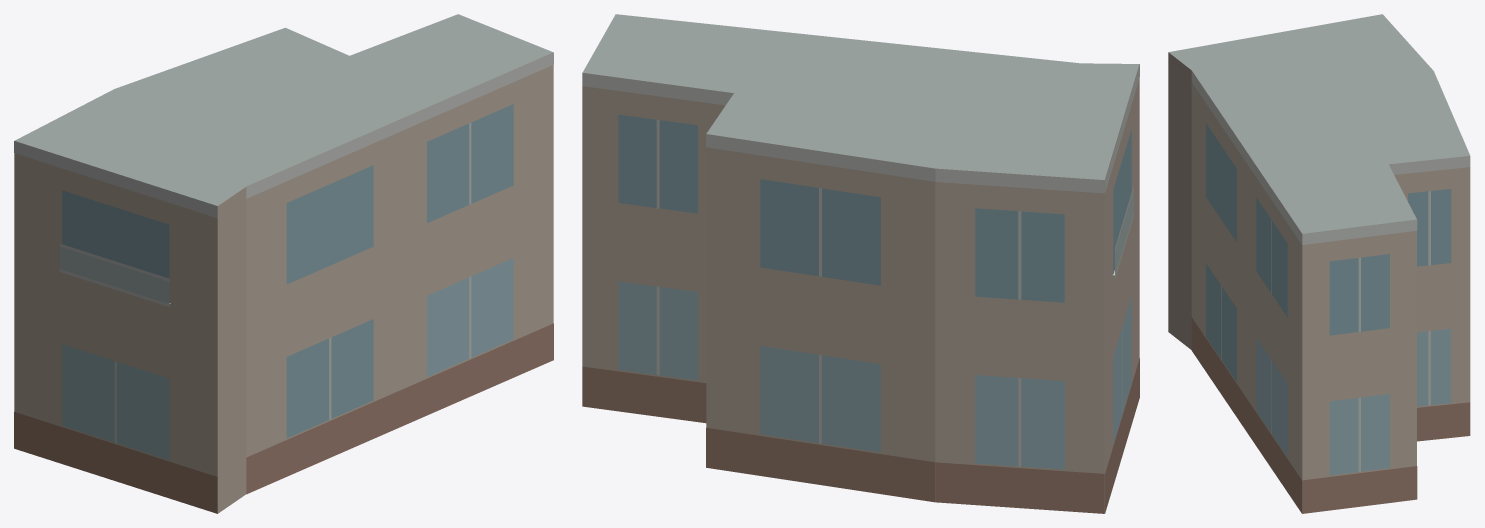
File: survey-upis-32461096.glb
3 views of the same model, side by side, from view 1: azimuth 30°, elevation 25°; view 2: azimuth 150°, elevation 25°; view 3: azimuth 270°, elevation 25° (orthographic). The views are drawn at different scales.
Visible parts, largest first — view 1: survey-upis-32461096.tmp; view 2: survey-upis-32461096.tmp; view 3: survey-upis-32461096.tmp.
Part boxes in pixels (<box>): survey-upis-32461096.tmp: <box>14,14,553,513</box>; survey-upis-32461096.tmp: <box>582,14,1139,513</box>; survey-upis-32461096.tmp: <box>1168,14,1470,513</box>.
Size of the model in its own units: 10.28 by 6.1 by 5.97.
